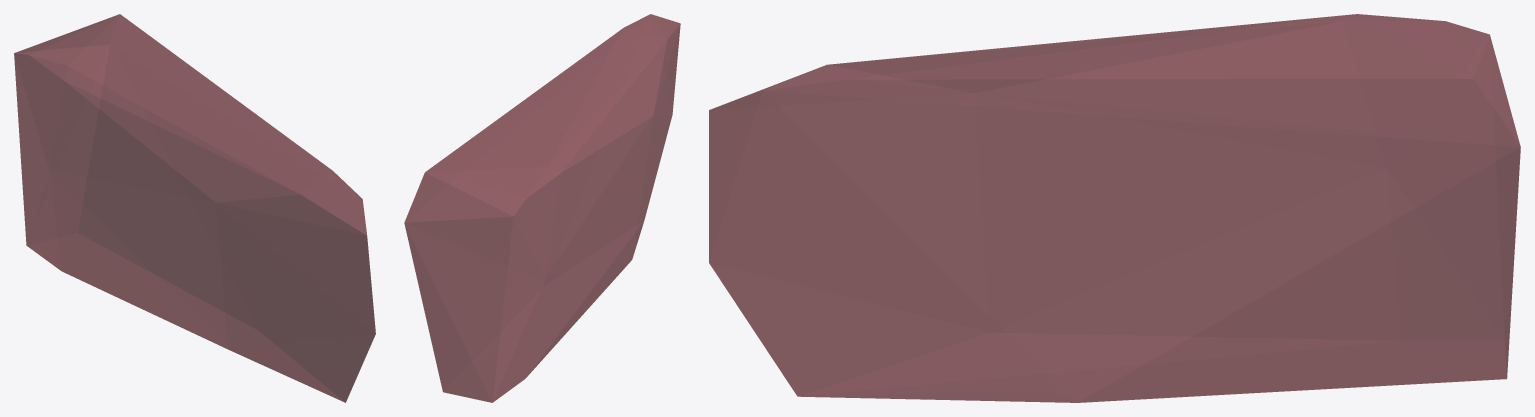
The picture shows the model from 3 angles, left to right: view 1: azimuth 30°, elevation 25°; view 2: azimuth 150°, elevation 25°; view 3: azimuth 270°, elevation 25°; orthographic projection. The views are drawn at different scales.
Visible parts, largest first — view 1: Shape_IndexedFaceSet.111_Shape_IndexedFaceSet.9632; view 2: Shape_IndexedFaceSet.111_Shape_IndexedFaceSet.9632; view 3: Shape_IndexedFaceSet.111_Shape_IndexedFaceSet.9632.
Boxes of the visible parts, bbox=[...] form: Shape_IndexedFaceSet.111_Shape_IndexedFaceSet.9632: bbox=[14, 14, 375, 402]; Shape_IndexedFaceSet.111_Shape_IndexedFaceSet.9632: bbox=[404, 14, 680, 402]; Shape_IndexedFaceSet.111_Shape_IndexedFaceSet.9632: bbox=[709, 14, 1520, 402].
Size of the model in its own units: 0.0806 by 0.159 by 0.363.
